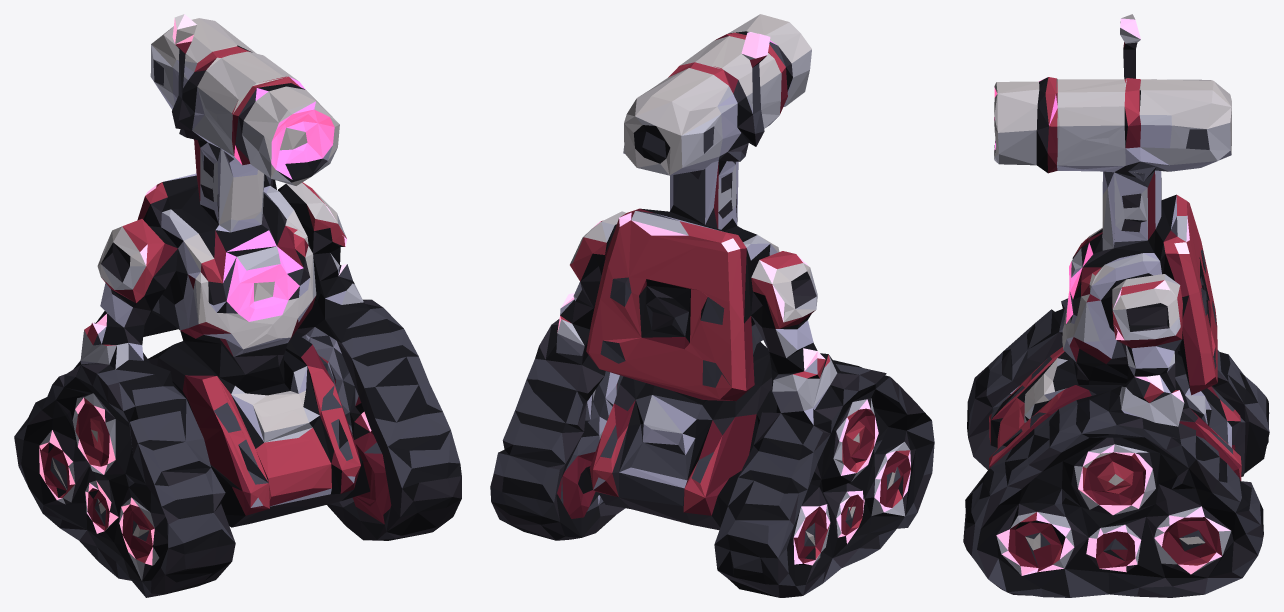
File: defense.glb
The picture shows the model from 3 angles, left to right: view 1: azimuth 30°, elevation 25°; view 2: azimuth 150°, elevation 25°; view 3: azimuth 270°, elevation 25°; orthographic projection. The views are drawn at different scales.
Visible parts, largest first — view 1: defense; view 2: defense; view 3: defense.
Boxes of the visible parts, x1=… form: defense: x1=14, y1=14, x2=461, y2=597; defense: x1=490, y1=14, x2=934, y2=597; defense: x1=963, y1=14, x2=1269, y2=597.
Bounding box in the file's own units: 0.5921 × 1 × 0.5598.
